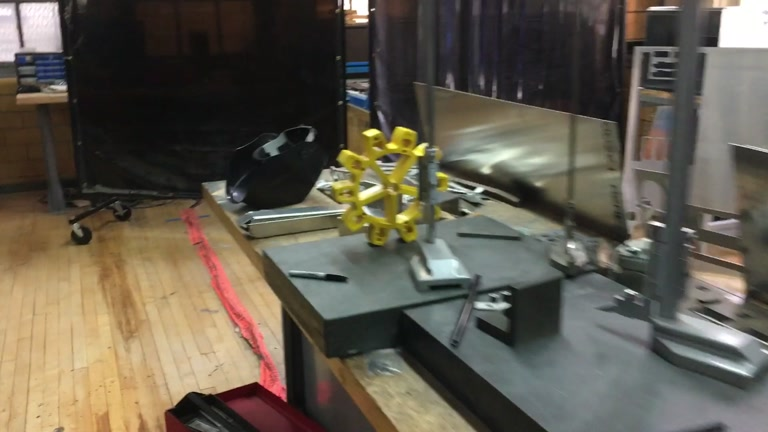gear: (330, 125, 449, 248)
